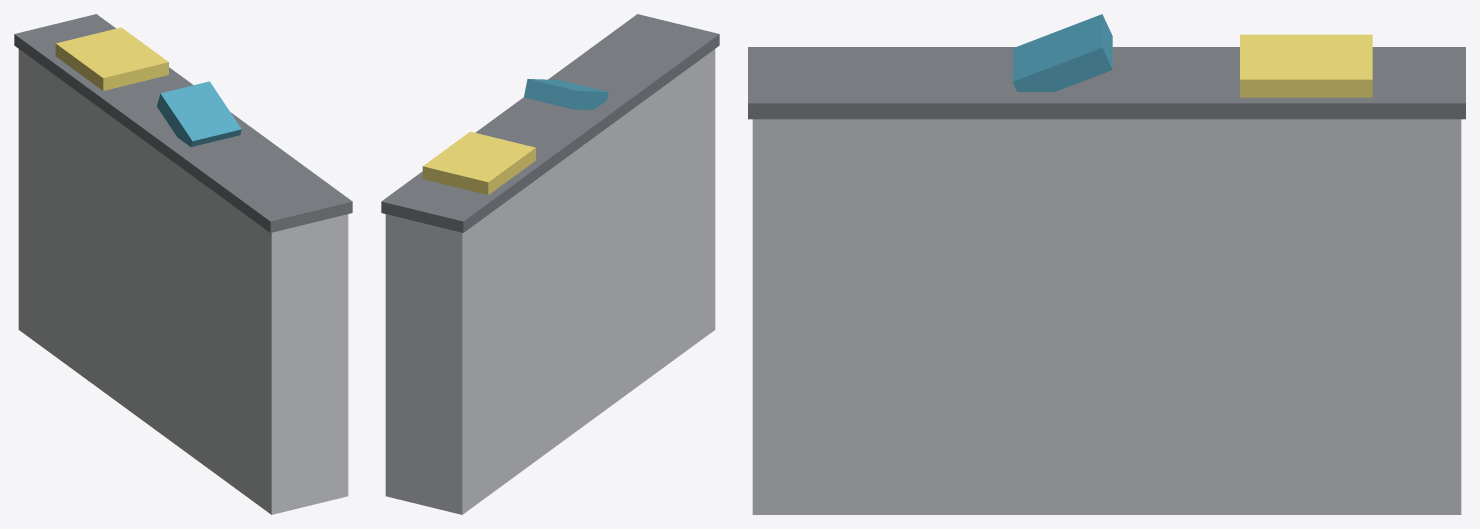
Rendered from FareGate.fbx.
3 views of the same model, side by side, from view 1: azimuth 30°, elevation 25°; view 2: azimuth 150°, elevation 25°; view 3: azimuth 270°, elevation 25° (orthographic). The views are drawn at different scales.
Visible parts, largest first — view 1: FareGate; view 2: FareGate; view 3: FareGate.
Boxes of the visible parts, x1,y1,x2,y2 form: FareGate: (14,14,352,514); FareGate: (381,14,719,514); FareGate: (748,14,1465,514).
Size of the model in its own units: 30 by 114 by 162.
